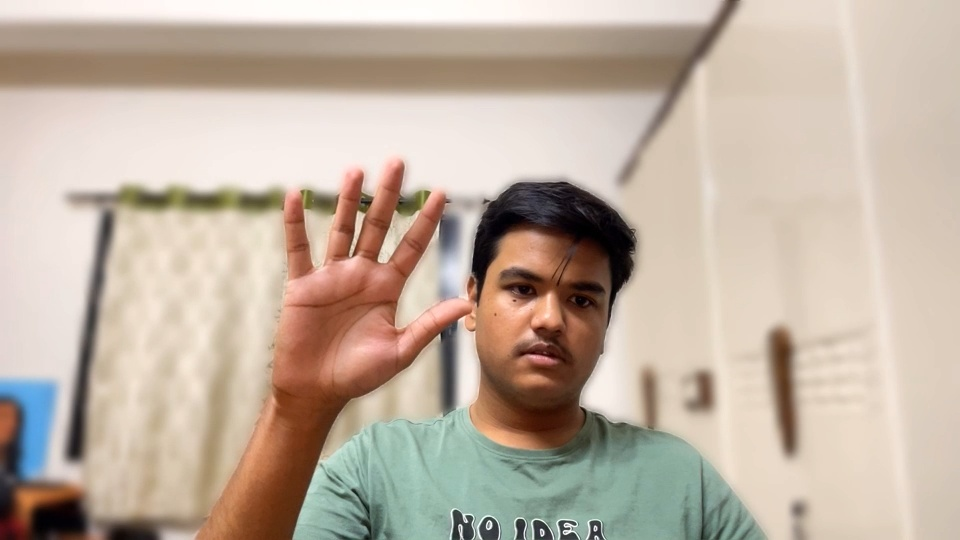Hello: (246, 148, 485, 422)
